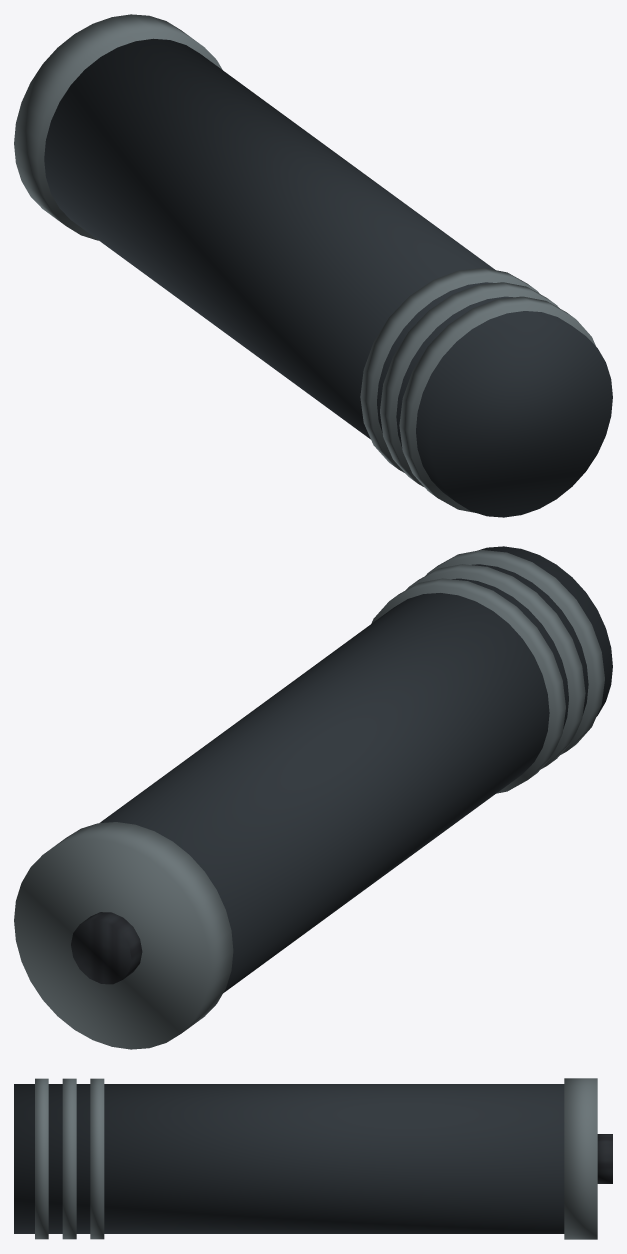
The model's file is mc_suppressor.glb.
3 views of the same model, one above another, from view 1: azimuth 30°, elevation 25°; view 2: azimuth 150°, elevation 25°; view 3: azimuth 270°, elevation 25° (orthographic). The views are drawn at different scales.
Parts seen in each view (by area): view 1: mc_suppressor__Geometry; view 2: mc_suppressor__Geometry; view 3: mc_suppressor__Geometry.
Boxes of the visible parts, bbox=[...] form: mc_suppressor__Geometry: bbox=[14, 14, 612, 517]; mc_suppressor__Geometry: bbox=[14, 546, 612, 1049]; mc_suppressor__Geometry: bbox=[14, 1078, 612, 1239].
Bounding box in the file's own units: 0.058 × 0.058 × 0.2155.
3 materials, 1 textured.
